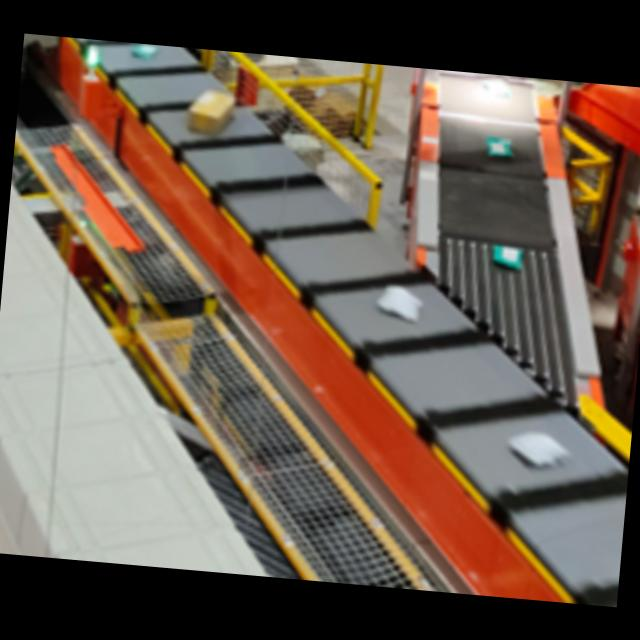box: (188, 90, 234, 136)
mailer: (510, 428, 568, 471), (377, 285, 422, 325), (491, 242, 524, 272), (485, 137, 514, 161), (130, 43, 156, 60)
